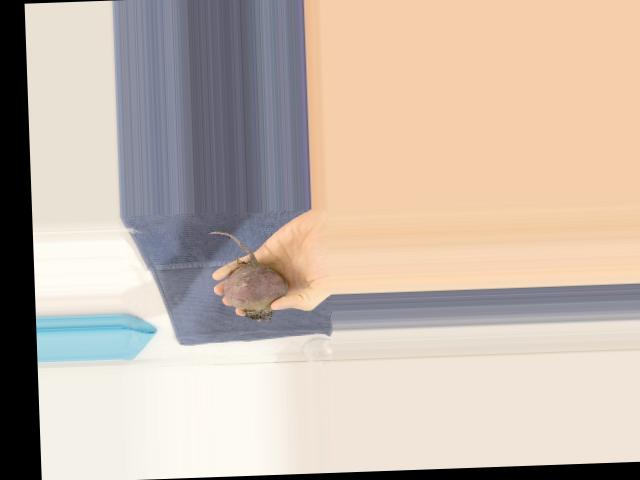beet: (207, 228, 289, 322)
